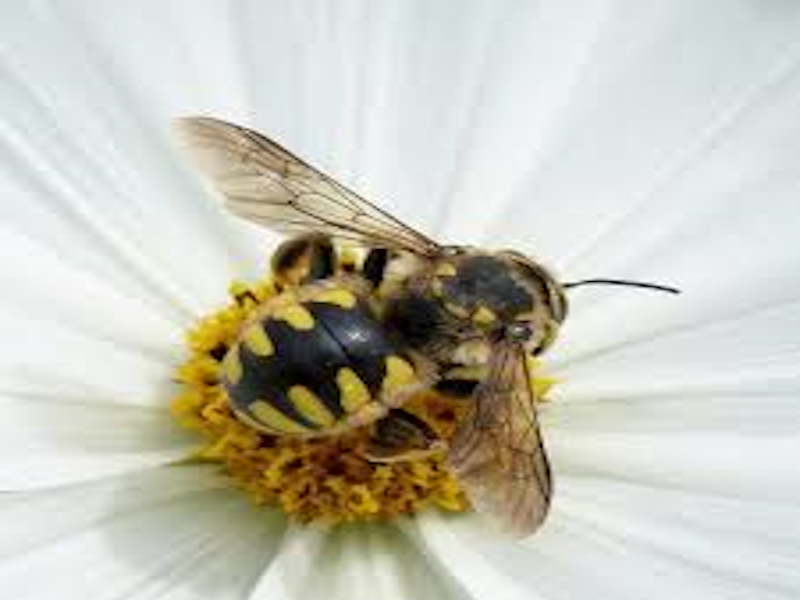chax: (143, 98, 691, 549)
